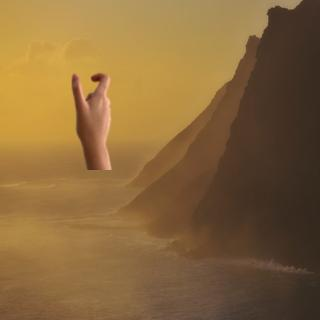Irritated: (69, 70, 120, 168)
